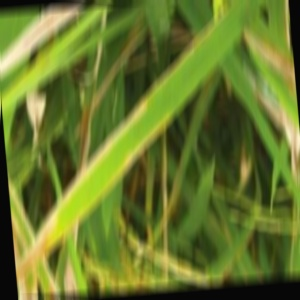Leaf_Blast: (43, 176, 104, 225), (13, 14, 58, 53)
